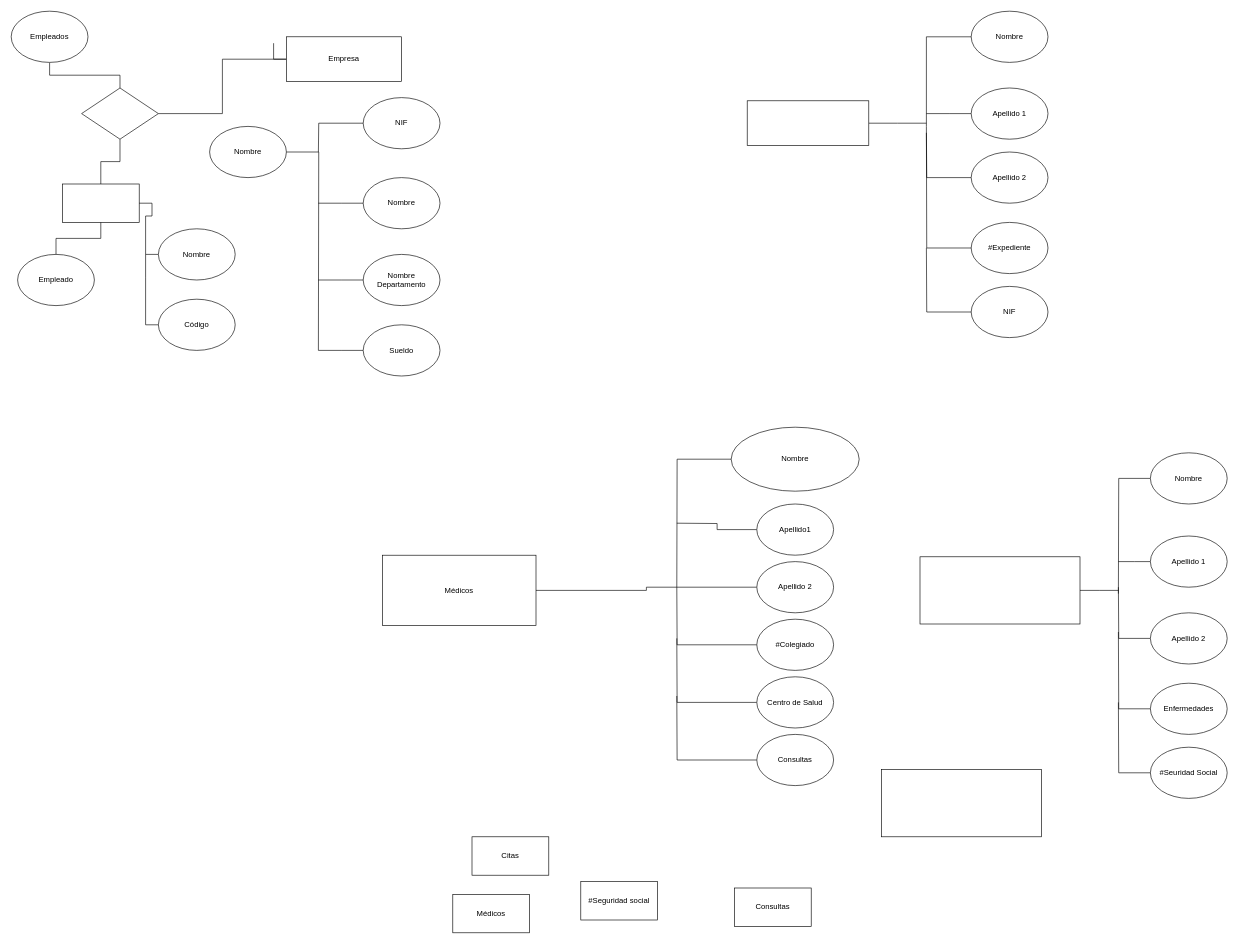
Image size: 1238x944. Some labels were removed from this diagram. The shapes that lost their labels are listed below. From the top down, each one's centre as x and y in pixels, then its label:
At [119,113]: "Departamentos".
At [808,123]: "Alumnos".
At [100,202]: "Proyesctos".
At [999,590]: "Pacientes".
At [961,803]: "Personas".
